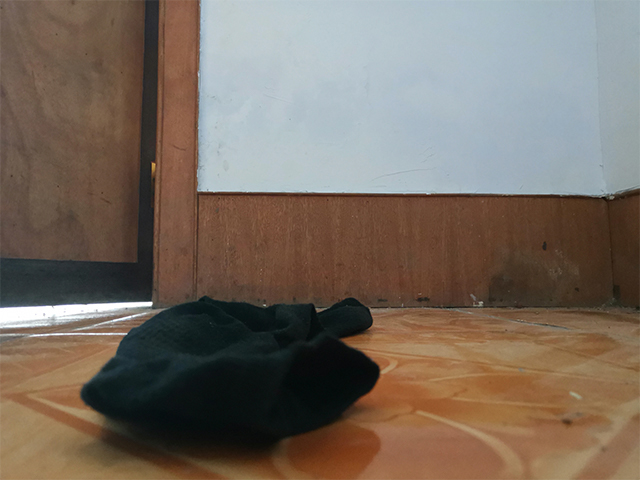socks: (75, 294, 386, 444)
